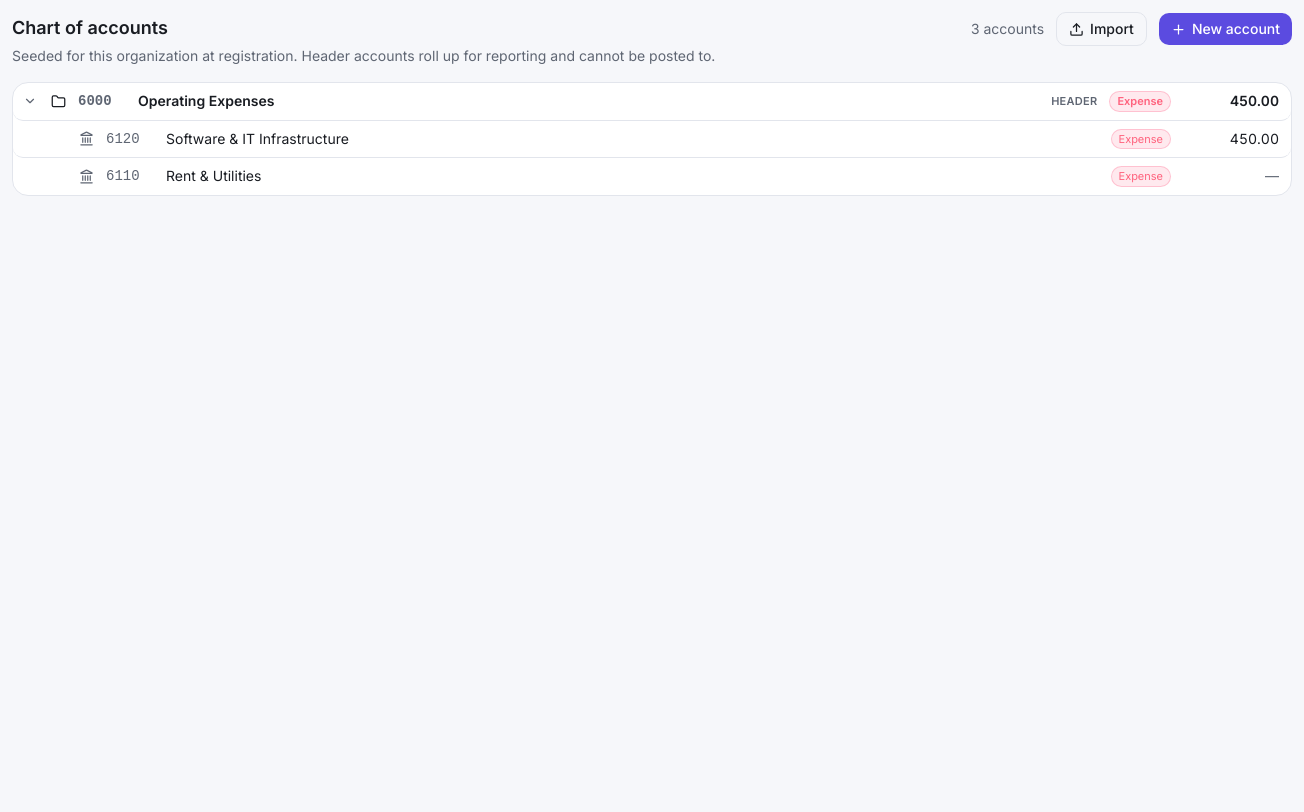
AccountsPage › opens the new-account form from the header button
Click the button "New account": (1225, 29) [1159,13,1292,45]
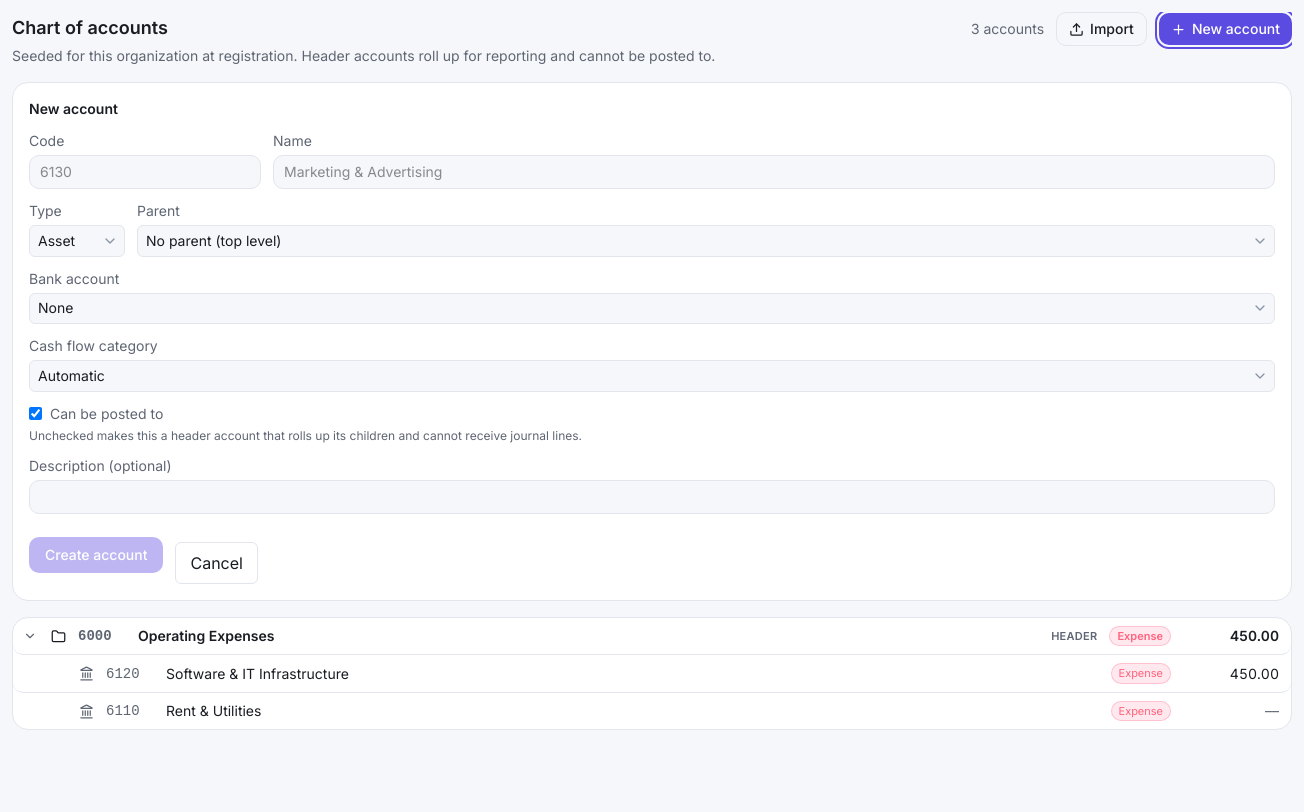
Expected: the field labelled "Code" is shown, [29,155,261,189]
